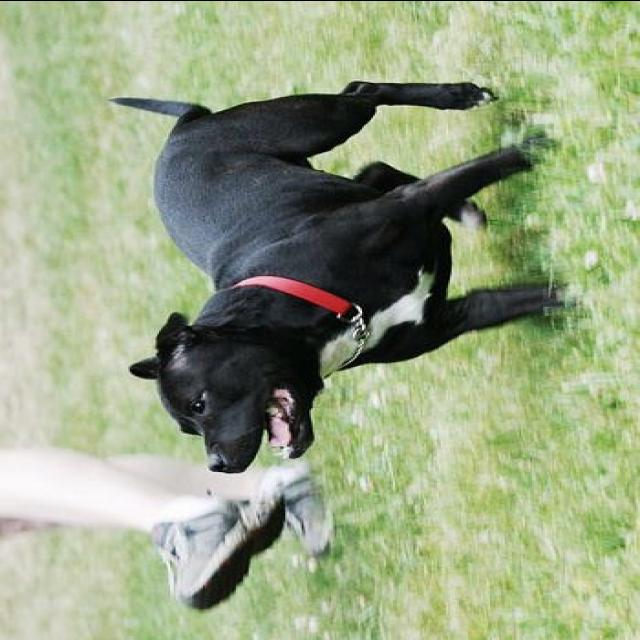staffordshire_bullterrier: (101, 71, 568, 478)
